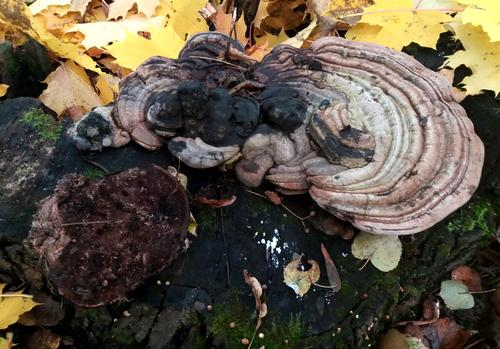Ganoderma - Fruit Body: (114, 31, 488, 237)
